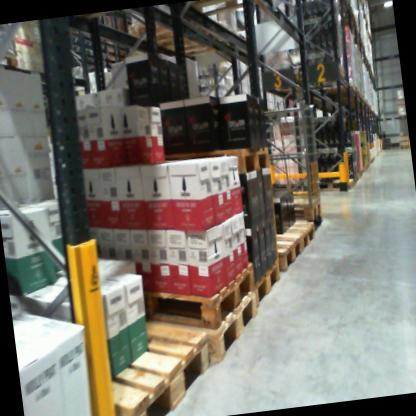pallet: (129, 286, 269, 375), (96, 323, 222, 416), (132, 258, 262, 340), (118, 3, 235, 66), (160, 134, 282, 192), (250, 244, 290, 319), (265, 214, 327, 260), (185, 0, 284, 21), (272, 228, 308, 281), (277, 190, 326, 225), (307, 172, 358, 194), (0, 37, 22, 69)
